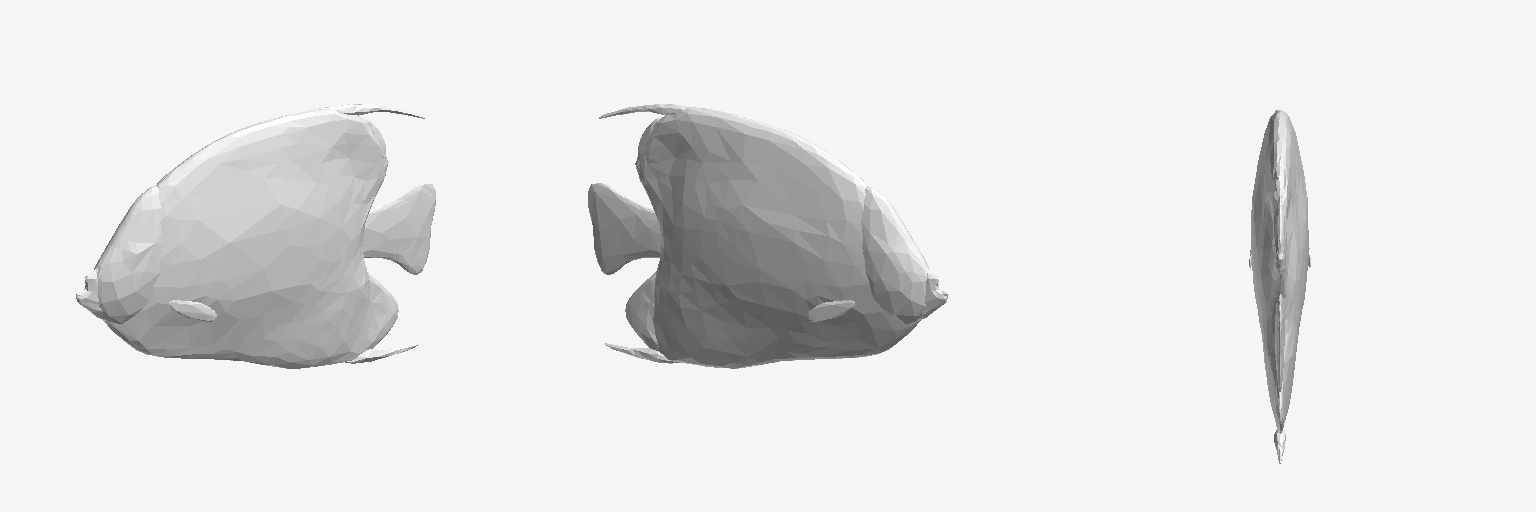
The model's file is coralfish.obj.
The picture shows the model from 3 angles: view 1: azimuth 30°, elevation 25°; view 2: azimuth 150°, elevation 25°; view 3: azimuth 270°, elevation 25°; orthographic projection.
Parts seen in each view (by area): view 1: model_Mesh; view 2: model_Mesh; view 3: model_Mesh.
Boxes of the visible parts, x1=… form: model_Mesh: x1=76, y1=104, x2=435, y2=368; model_Mesh: x1=588, y1=104, x2=947, y2=368; model_Mesh: x1=1249, y1=110, x2=1310, y2=463.
Bounding box in the file's own units: 97.13 × 68.55 × 14.39.